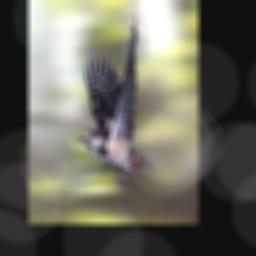Woodpecker: (74, 0, 154, 186)
